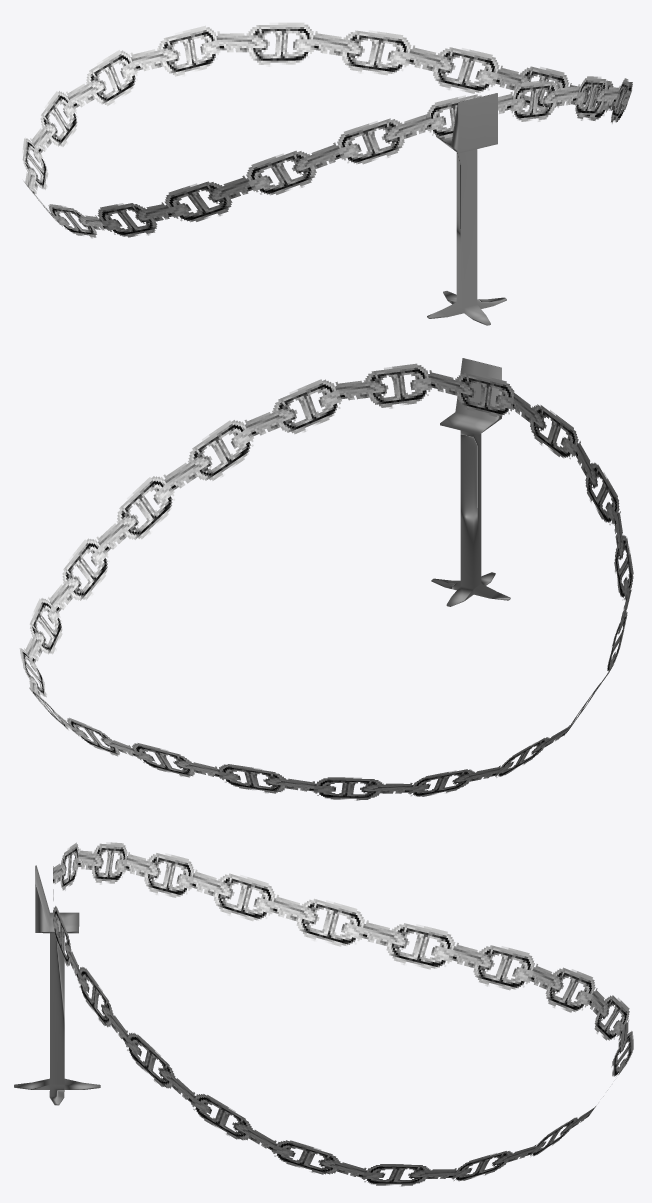
File: porto bracelet - sterling silver_04.gltf
3 renders of one model, top to bottom at view 1: azimuth 30°, elevation 25°; view 2: azimuth 150°, elevation 25°; view 3: azimuth 270°, elevation 25°, orthographic. The views are drawn at different scales.
Parts seen in each view (by area): view 1: bracelet, Cube; view 2: bracelet, Cube; view 3: bracelet, Cube.
Part boxes in pixels (bbox=[...]): bracelet: bbox=[22, 22, 632, 238]; Cube: bbox=[427, 93, 506, 325]; bracelet: bbox=[19, 363, 633, 800]; Cube: bbox=[431, 358, 510, 606]; bracelet: bbox=[53, 842, 633, 1186]; Cube: bbox=[14, 865, 100, 1105].
Bounding box in the file's own units: 3.35 × 1.33 × 3.47.
Materials: 2 (1 with a texture image).
